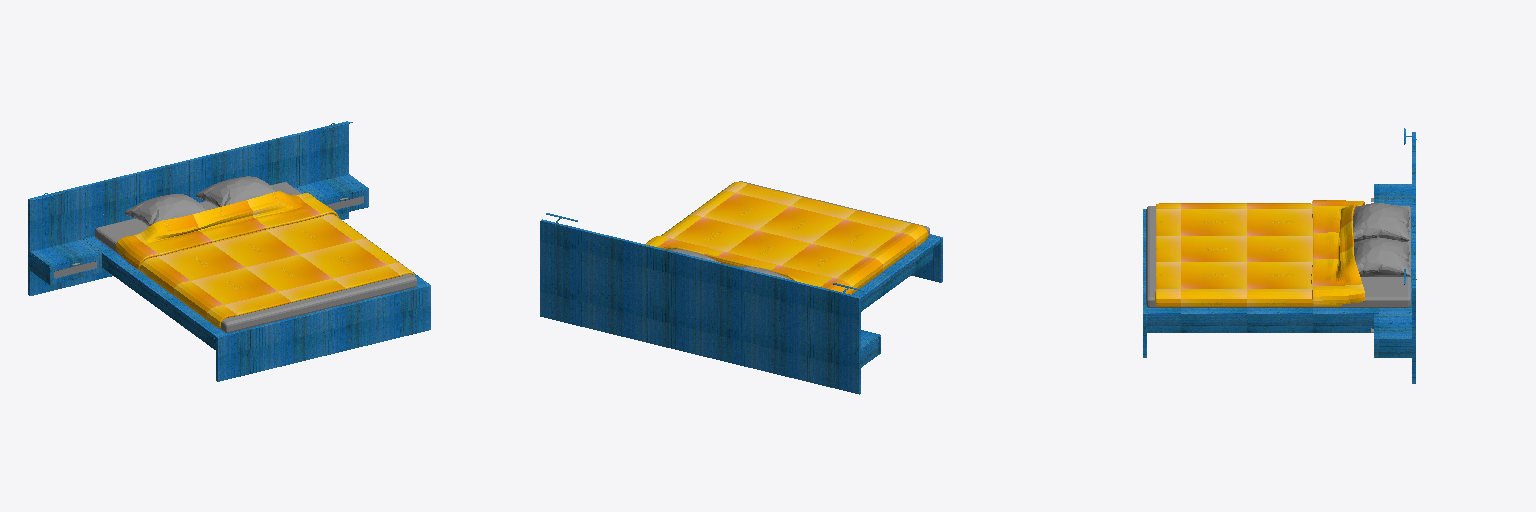
3 renders of one model, left to right at view 1: azimuth 30°, elevation 25°; view 2: azimuth 150°, elevation 25°; view 3: azimuth 270°, elevation 25°, orthographic.
Visible parts, largest first — view 1: Snooze_OBJ; view 2: Snooze_OBJ; view 3: Snooze_OBJ.
Boxes of the visible parts, x1,y1,x2,y2 form: Snooze_OBJ: [28, 121, 430, 381]; Snooze_OBJ: [540, 181, 942, 394]; Snooze_OBJ: [1143, 128, 1416, 383].
Bounding box in the file's own units: 16.97 × 5.07 × 12.63.
Materials: 3 (2 with a texture image).